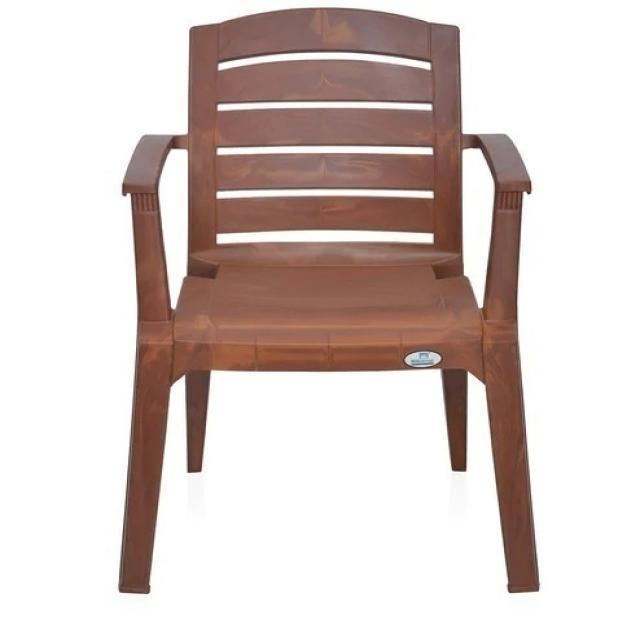chair: (86, 6, 550, 602)
